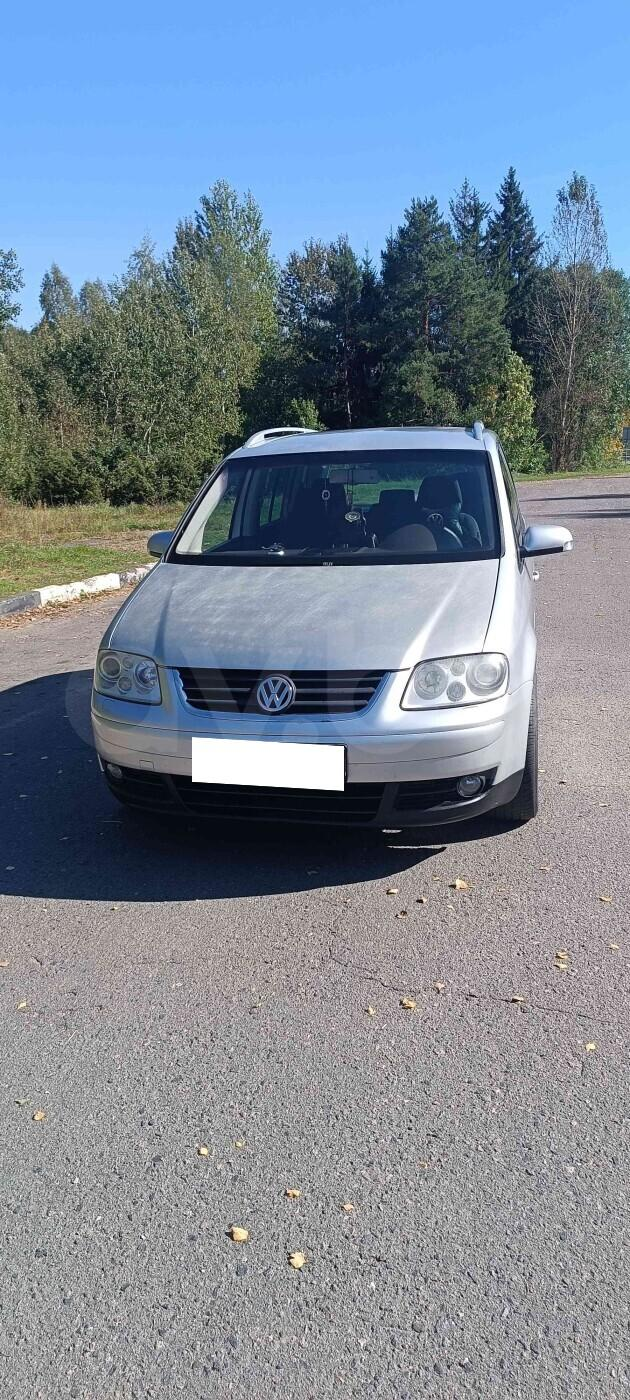Touran_2003-2006: (88, 430, 574, 830)
